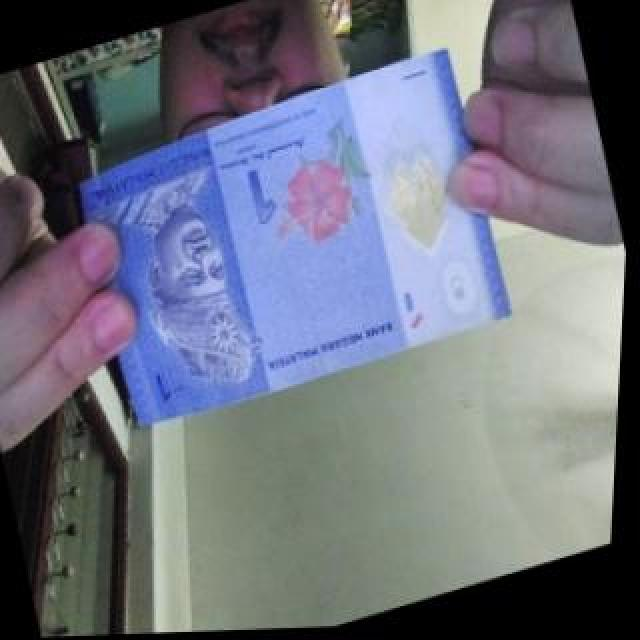1 Ringgit: (58, 46, 527, 439)
